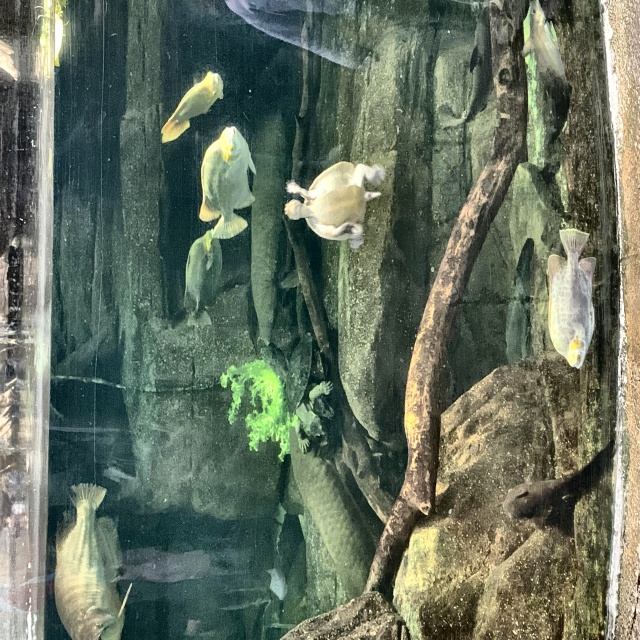fish: (50, 480, 135, 639), (520, 0, 570, 159), (435, 4, 496, 128), (546, 226, 597, 370), (198, 128, 256, 241), (158, 68, 225, 145), (183, 229, 226, 329)
